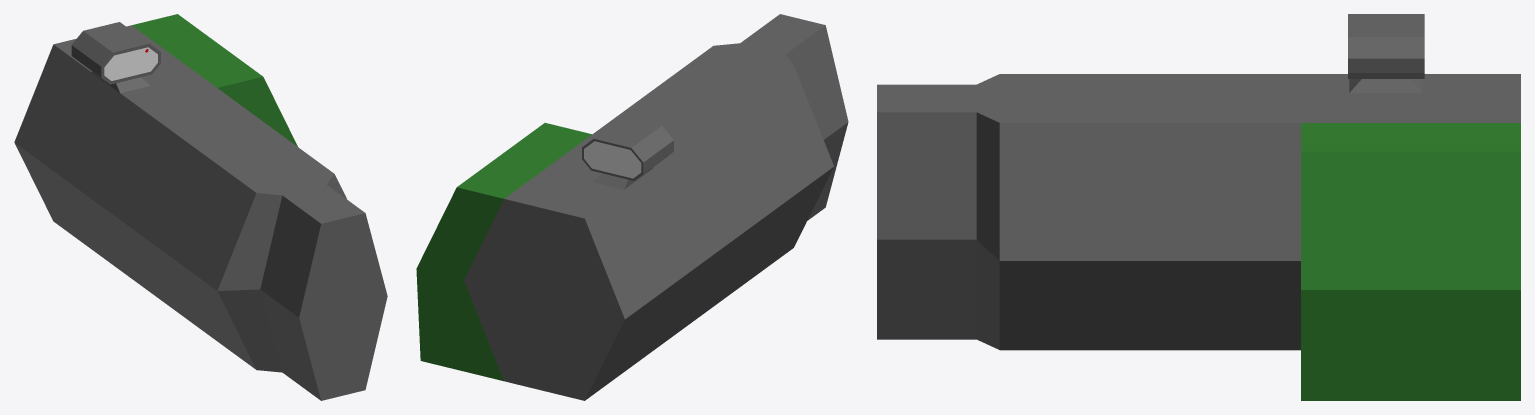
Rendered from TurretHead.fbx.
3 renders of one model, left to right at view 1: azimuth 30°, elevation 25°; view 2: azimuth 150°, elevation 25°; view 3: azimuth 270°, elevation 25°, orthographic. The views are drawn at different scales.
Visible parts, largest first — view 1: Cylinder; view 2: Cylinder; view 3: Cylinder.
Part boxes in pixels (x1,y1,x2,y2): Cylinder: [14, 14, 387, 400]; Cylinder: [416, 14, 848, 400]; Cylinder: [877, 14, 1520, 400].
Size of the model in its own units: 116 by 120 by 248.
